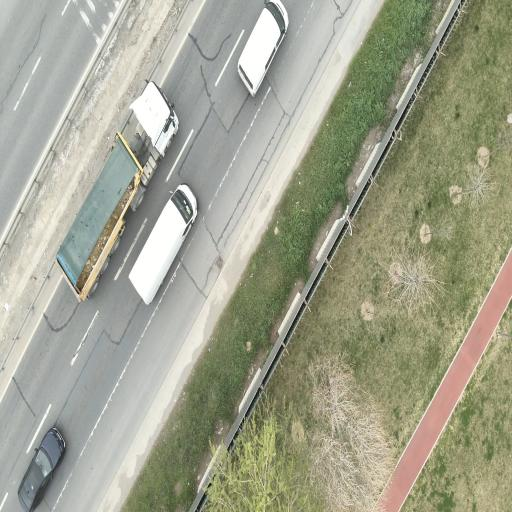car: (238, 0, 288, 96), (18, 428, 65, 511)
truck: (56, 82, 178, 301), (129, 183, 197, 304)
